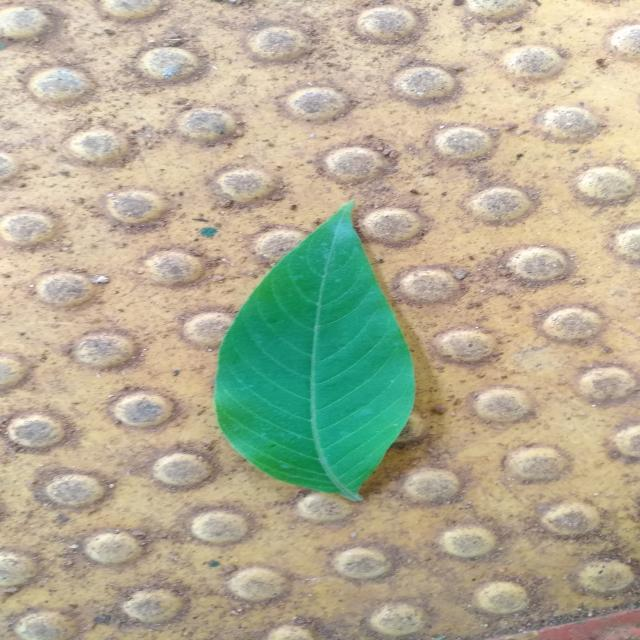malabar_nut: (216, 202, 413, 501)
